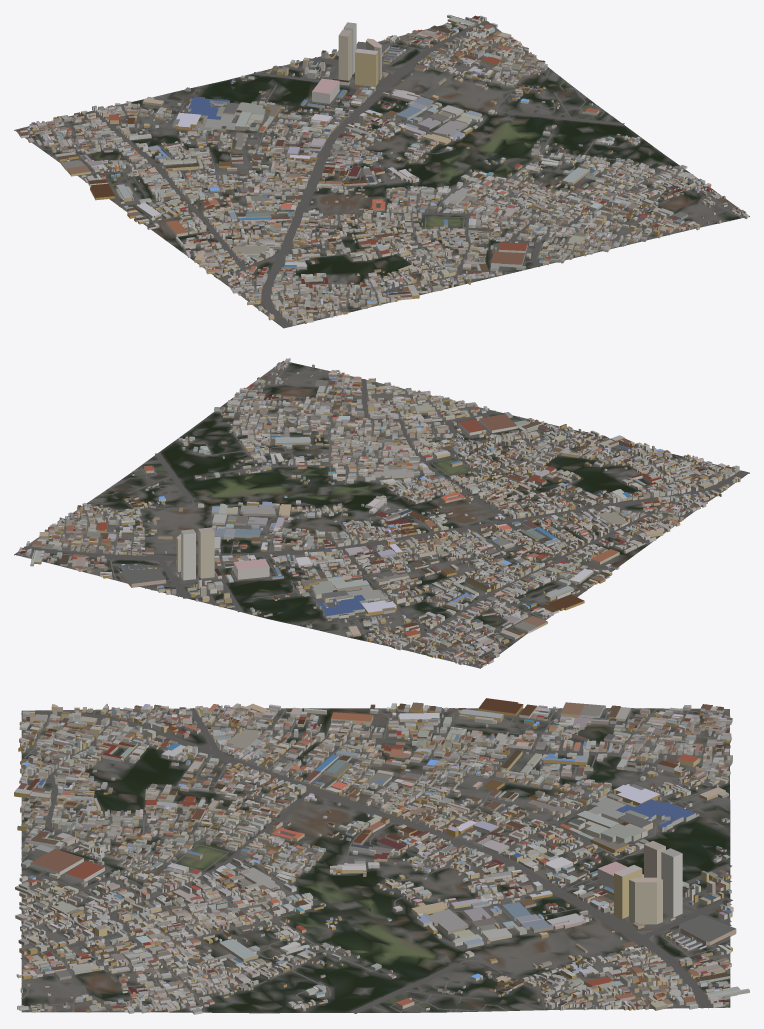
3 views of the same model, one above another, from view 1: azimuth 30°, elevation 25°; view 2: azimuth 150°, elevation 25°; view 3: azimuth 270°, elevation 25° (orthographic). The views are drawn at different scales.
Parts seen in each view (by area): view 1: buildings, ground, roads; view 2: buildings, ground, roads; view 3: buildings, ground, roads.
Boxes of the visible parts, x1,y1,x2,y2 form: buildings: [16, 14, 748, 325]; ground: [14, 16, 749, 328]; roads: [24, 20, 746, 327]; buildings: [18, 358, 740, 666]; ground: [14, 360, 749, 668]; roads: [17, 362, 748, 666]; buildings: [14, 698, 749, 1014]; ground: [21, 708, 730, 1013]; roads: [20, 708, 732, 1013].
Bounding box in the file's own units: 1443 × 140 × 1455.
